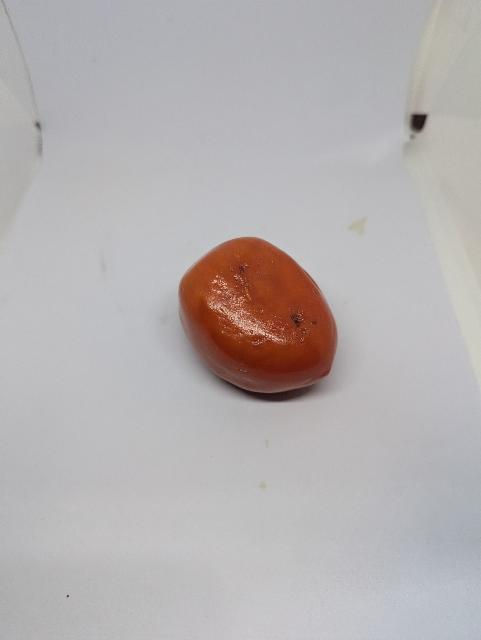defect: (169, 234, 345, 399)
